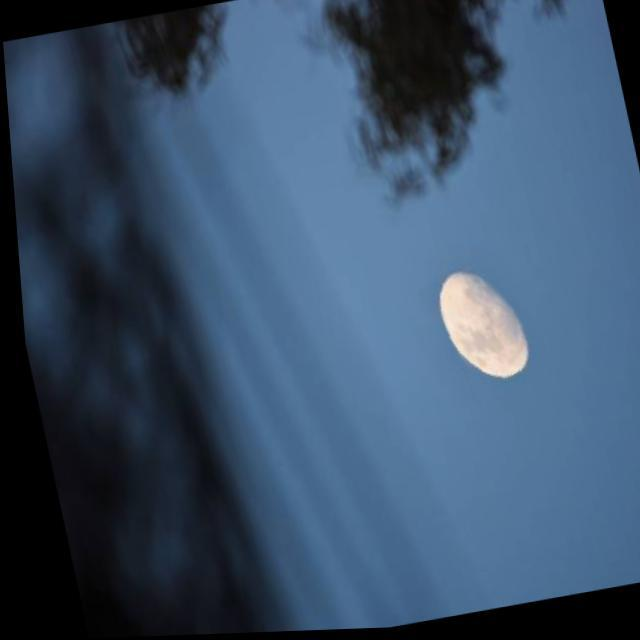moon: (415, 253, 548, 414)
